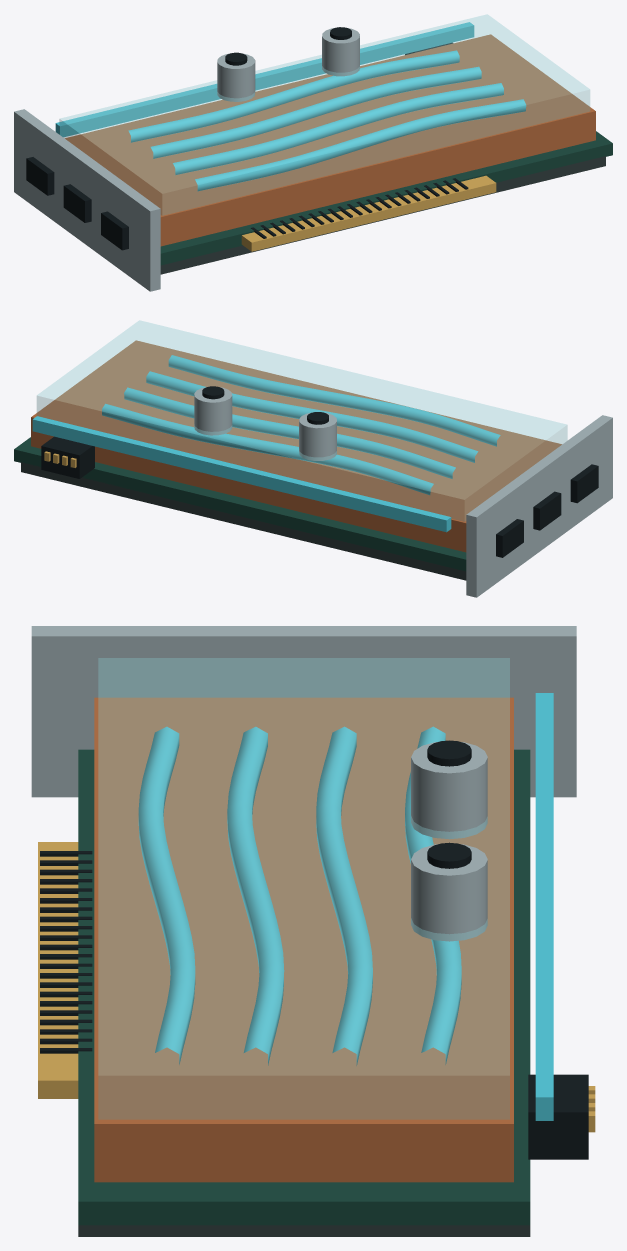
File: gpu-liquid.glb
The picture shows the model from 3 angles, top to bottom: view 1: azimuth 30°, elevation 25°; view 2: azimuth 150°, elevation 25°; view 3: azimuth 270°, elevation 25°; orthographic projection. The views are drawn at different scales.
Parts seen in each view (by area): view 1: gpu-liquid, Coolant blue, Brushed aluminium, Rubber and ABS, Contacts; view 2: gpu-liquid, Coolant blue, Brushed aluminium, Rubber and ABS; view 3: gpu-liquid, Brushed aluminium, Coolant blue, Rubber and ABS, Contacts.
Boxes of the visible parts, x1,y1,x2,y2 form: gpu-liquid: (59,14,612,274); Coolant blue: (55,22,526,191); Brushed aluminium: (14,28,359,291); Rubber and ABS: (26,27,468,250); Contacts: (241,175,496,251); gpu-liquid: (14,320,567,580); Coolant blue: (32,355,500,532); Brushed aluminium: (194,387,612,597); Rubber and ABS: (41,386,598,557); gpu-liquid: (78,658,530,1236); Brushed aluminium: (31,626,576,941); Coolant blue: (138,693,553,1120); Rubber and ABS: (40,740,588,1159); Contacts: (38,842,595,1132).
Bounding box in the file's own units: 2.75 × 0.616 × 1.4.
